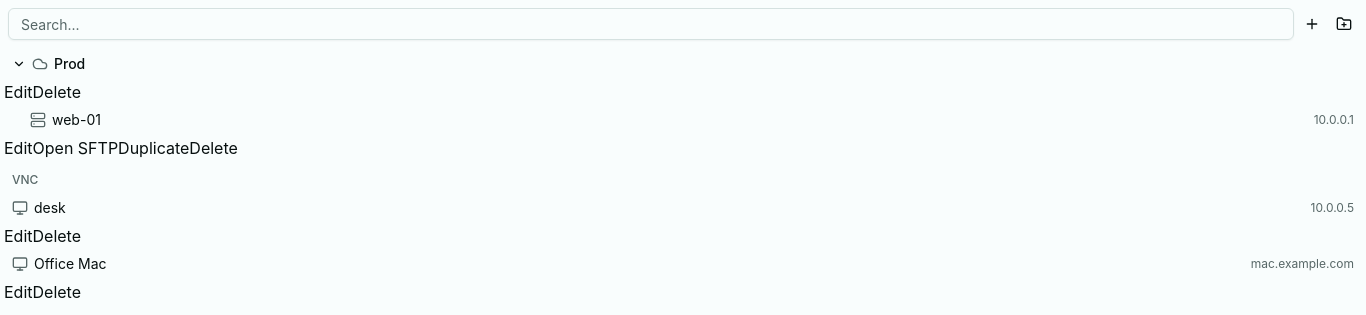
Scenario: search filters VNC profiles by name
Type "OFFICE" into the field with placeholder "Search...".
click(651, 24); type("OFFICE")  # box [8,8,1294,40]
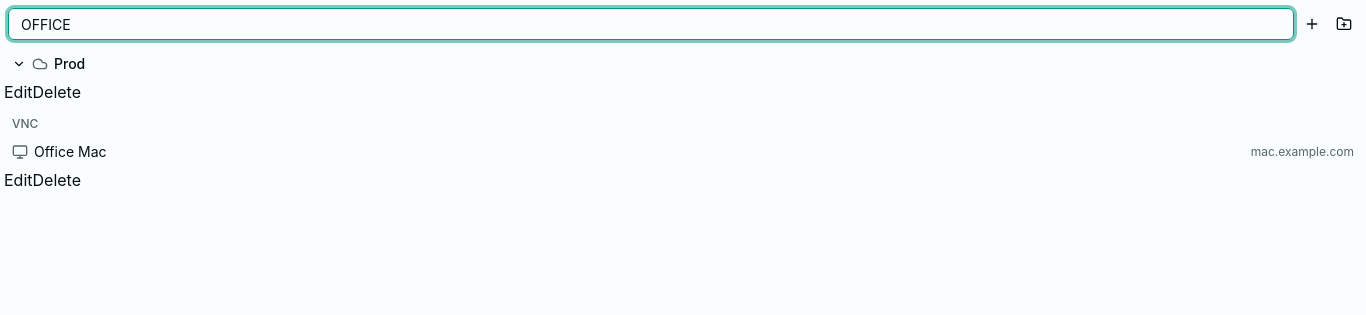
Expected: the text "Office Mac" is shown, [34,142,106,162]
Expected: the button "desk" is gone
